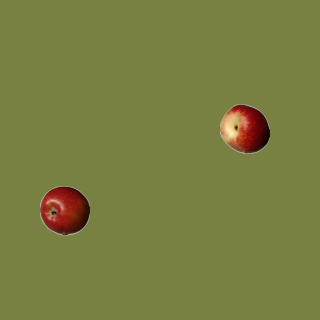Apple Braeburn: (39, 185, 89, 235)
Nectarine: (219, 103, 269, 153)
